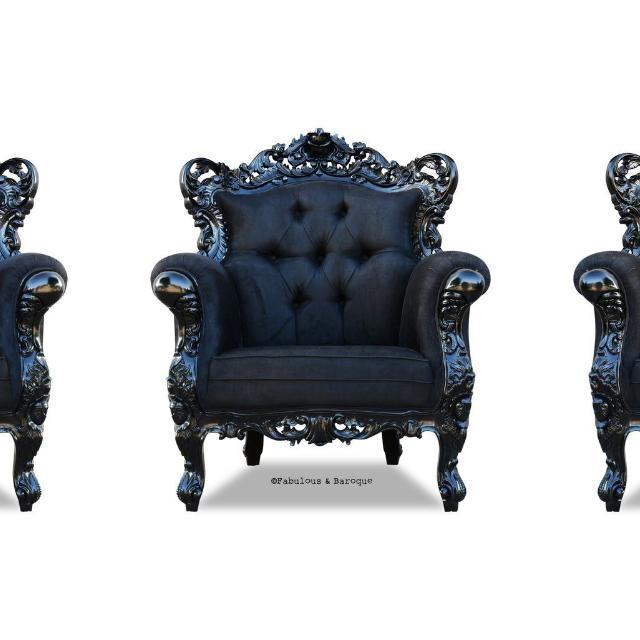obstacle: (142, 92, 514, 536), (549, 92, 640, 535), (0, 92, 74, 535)
